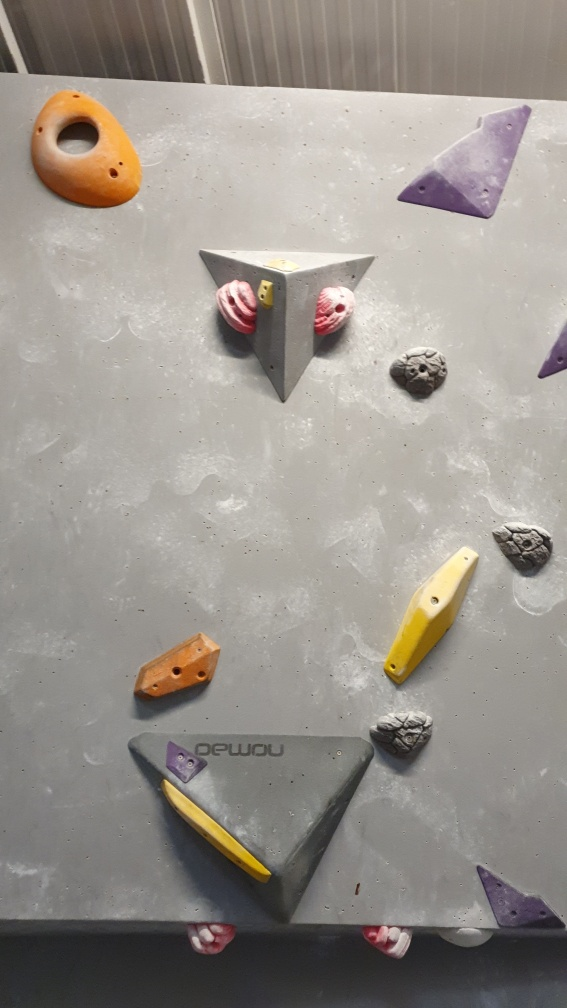Jug: (491, 521, 558, 579), (370, 713, 434, 769), (213, 277, 262, 343), (388, 345, 450, 397), (187, 915, 237, 962), (315, 285, 356, 340), (366, 925, 418, 965)
Pinch: (388, 544, 479, 688), (131, 632, 222, 701)
Pocket: (31, 87, 148, 210)
